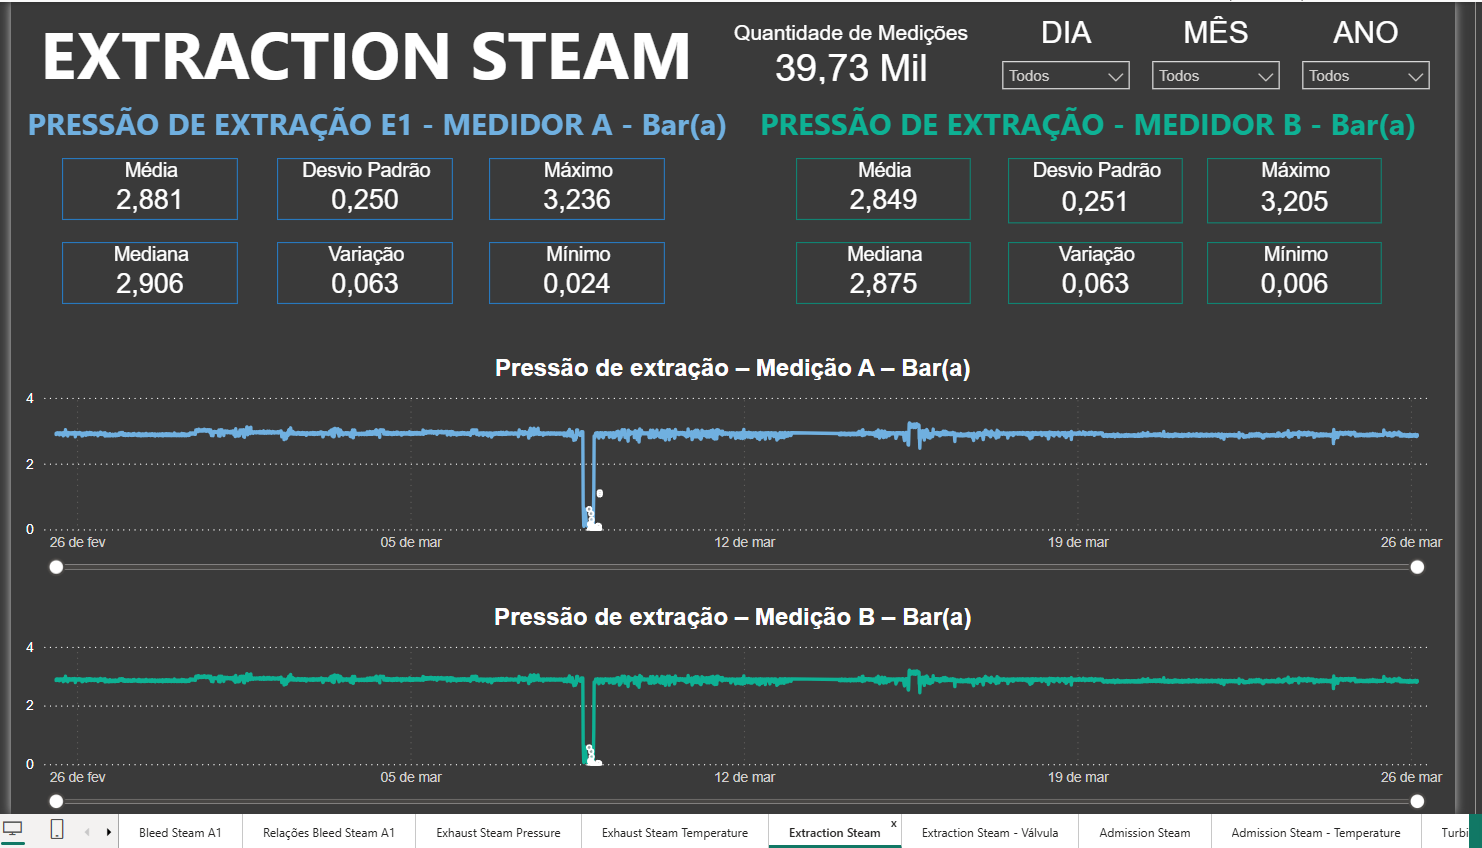

Layout of this report page (visuals, bound fields, positions):
{"tool":"powerbi","page":{"name":"Extraction Steam - Válvula","canvas":[1280,720],"ordinal":5},"visuals":[{"type":"lineChart","title":"Pressão de óleo no conversor da válvula de controle (CV1) - Bar(a)","fields":{"Y":["Sum(TESTE - DADOS OPERAC TURB VAPOR.\"\"ES1P_CV1_P\"\": \"\"TURBINE EXTRACTION E1 - EXTRACTION CONTROL VALVE - ELECTRIC-HYD CO"],"Category":["TESTE - DADOS OPERAC TURB VAPOR.Date"]},"box":[0,98.5,1280,185.3],"z":0},{"type":"textbox","box":[0,0,624.4,87.5],"z":1000},{"type":"slicer","title":"ANO","fields":{"Values":["TESTE - DADOS OPERAC TURB VAPOR.Date.Variation.Hierarquia de datas.Ano"]},"box":[1135.1,12.6,133.3,70],"z":2000},{"type":"slicer","title":"MÊS","fields":{"Values":["TESTE - DADOS OPERAC TURB VAPOR.Date.Variation.Hierarquia de datas.Mês"]},"box":[1001.8,12.6,133.3,70],"z":3000},{"type":"slicer","title":"DIA","fields":{"Values":["TESTE - DADOS OPERAC TURB VAPOR.Date.Variation.Hierarquia de datas.Dia"]},"box":[868.6,12.6,133.3,85.6],"z":4000},{"type":"lineChart","title":"Pressão após válvula de retenção (NRF) - Bar(a)","fields":{"Y":["Sum(TESTE - DADOS OPERAC TURB VAPOR.\"\"ES1P_NRF\"\": \"\"EXTRACTION STEAM E1 - PRESSURE AFTER NON RETURN VALVE (CONTROL MEASU"],"Category":["TESTE - DADOS OPERAC TURB VAPOR.Date"]},"box":[0,298.3,1280,184.4],"z":5000},{"type":"lineChart","title":"Temperatura de extração E1 - °C","fields":{"Y":["Sum(TESTE - DADOS OPERAC TURB VAPOR.\"\"ES1T\"\": \"\"EXTRACTION STEAM E1 - TEMPERATURE - Actual Value\"\" (\"\"ºC\"\"))"],"Category":["TESTE - DADOS OPERAC TURB VAPOR.Date"]},"box":[0,504.9,640,215.3],"z":6000},{"type":"card","title":"Quantidade de Medições","fields":{"Values":["CountNonNull(TESTE - DADOS OPERAC TURB VAPOR.\"\"ES1T\"\": \"\"EXTRACTION STEAM E1 - TEMPERATURE - Actual Value\"\" (\"\"ºC\"\"))"]},"box":[615.7,16.5,246.1,61.3],"z":7000},{"type":"lineChart","title":"Posição do atuador da válvula de extração (0 a 100%)","fields":{"Y":["Sum(TESTE - DADOS OPERAC TURB VAPOR.\"\"ESP_CV1_POS\"\": \"\"ATLAS II - ACTUATOR LP (EXTRACTION) - Modbus signal\"\" (\"\"%\"\"))"],"Category":["TESTE - DADOS OPERAC TURB VAPOR.Date"]},"box":[640,504.9,640,215.3],"z":7001}]}

Visuals, with their boxes on the page's 1280x720 design canvas (x1, y1, x2, y2). These are canvas units, not pixel positions in the 1482x848 screenshot, which may show the page scaled, cropped or inside an application window:
"Pressão de óleo no conversor da válvula de controle (CV1) - Bar(a)" lineChart: <box>0,98,1280,284</box>
textbox: <box>0,0,624,88</box>
"ANO" slicer: <box>1135,13,1268,83</box>
"MÊS" slicer: <box>1002,13,1135,83</box>
"DIA" slicer: <box>869,13,1002,98</box>
"Pressão após válvula de retenção (NRF) - Bar(a)" lineChart: <box>0,298,1280,483</box>
"Temperatura de extração E1 - °C" lineChart: <box>0,505,640,720</box>
"Quantidade de Medições" card: <box>616,16,862,78</box>
"Posição do atuador da válvula de extração (0 a 100%)" lineChart: <box>640,505,1280,720</box>
